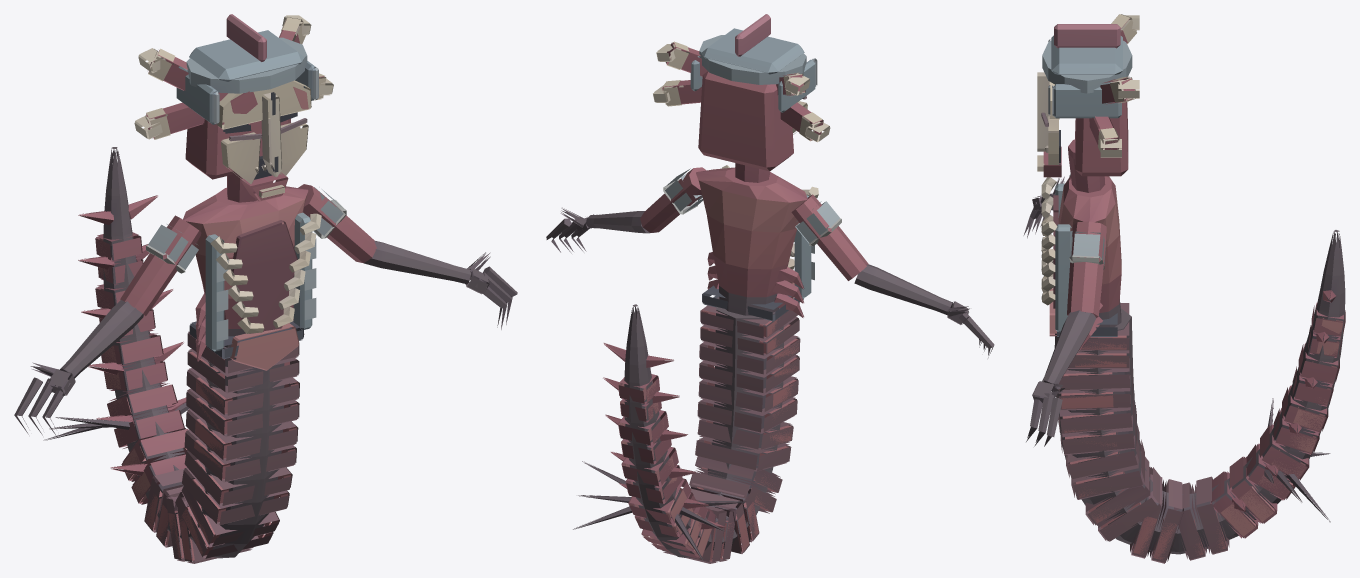
The model's file is DredgeKnight.glb.
The picture shows the model from 3 angles, left to right: view 1: azimuth 30°, elevation 25°; view 2: azimuth 150°, elevation 25°; view 3: azimuth 270°, elevation 25°; orthographic projection. The views are drawn at different scales.
Parts seen in each view (by area): view 1: Body, Head, ArmR, ArmL; view 2: Body, Head, ArmR, ArmL; view 3: Body, Head, ArmL, ArmR.
Part boxes in pixels (box(x1,y1,x2,y2)): Body: box(43, 147, 321, 563); Head: box(134, 14, 333, 202); ArmR: box(14, 215, 201, 437); ArmL: box(298, 184, 517, 329); Body: box(573, 165, 818, 563); Head: box(653, 14, 830, 182); ArmR: box(791, 194, 994, 357); ArmL: box(546, 167, 706, 253); Body: box(1041, 175, 1345, 563); Head: box(1037, 14, 1139, 192); ArmL: box(1026, 221, 1106, 446); ArmR: box(1023, 174, 1070, 238).
Size of the model in its own units: 6.83 by 7.27 by 4.02.
